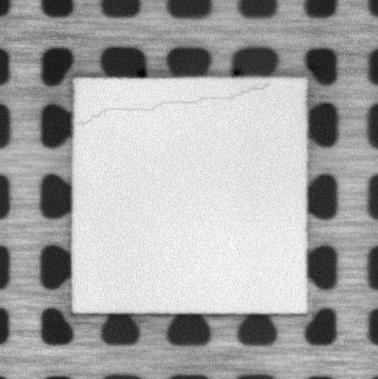DIE_CRACK: (76, 80, 273, 124)
